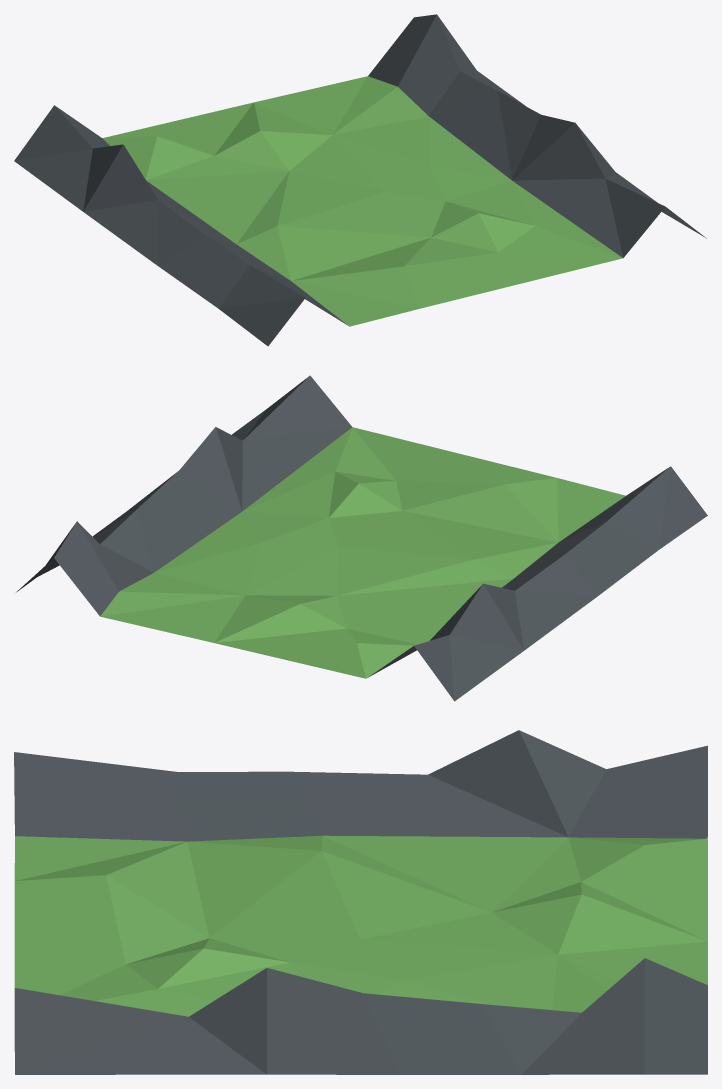
The model's file is hilltest1.fbx.
The picture shows the model from 3 angles, top to bottom: view 1: azimuth 30°, elevation 25°; view 2: azimuth 150°, elevation 25°; view 3: azimuth 270°, elevation 25°; orthographic projection. The views are drawn at different scales.
Parts seen in each view (by area): view 1: Plane; view 2: Plane; view 3: Plane.
Boxes of the visible parts, <box> form: Plane: <box>14,14,706,346</box>; Plane: <box>14,375,707,701</box>; Plane: <box>14,730,707,1074</box>.
Size of the model in its own units: 1002 by 147 by 1001.
